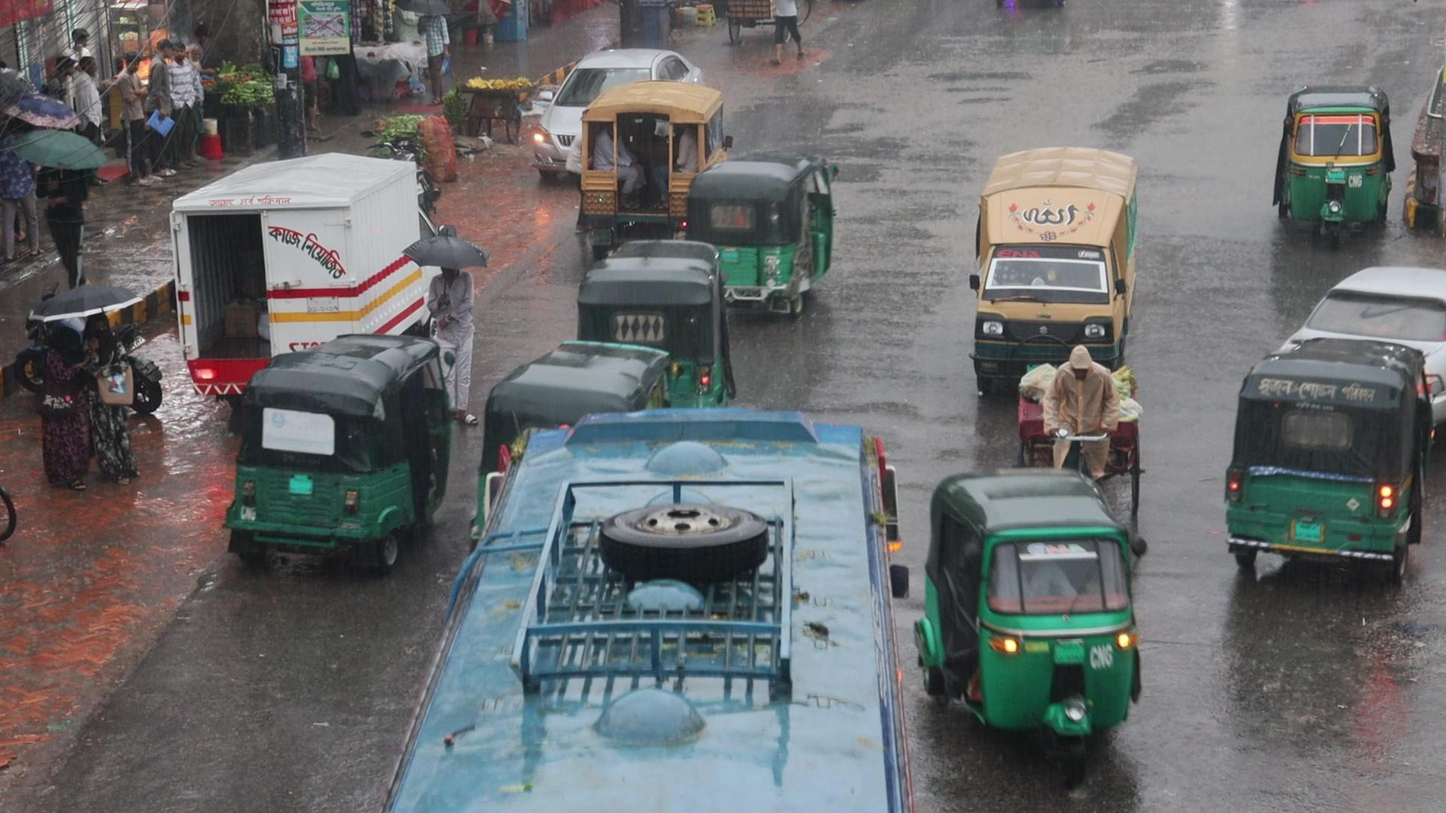Bus: (377, 402, 910, 813)
Truck: (968, 145, 1136, 367), (577, 79, 726, 230)
